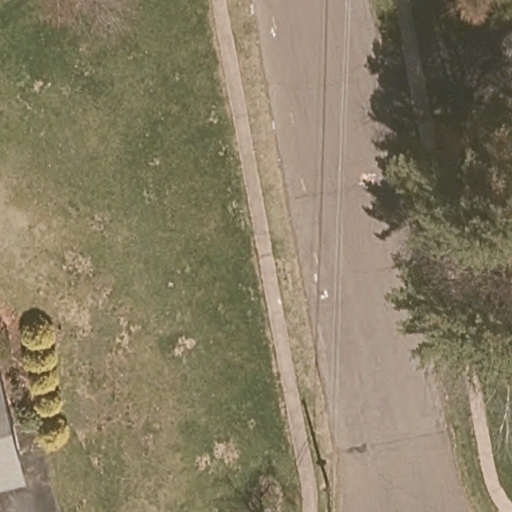DT: (303, 401, 336, 512)
